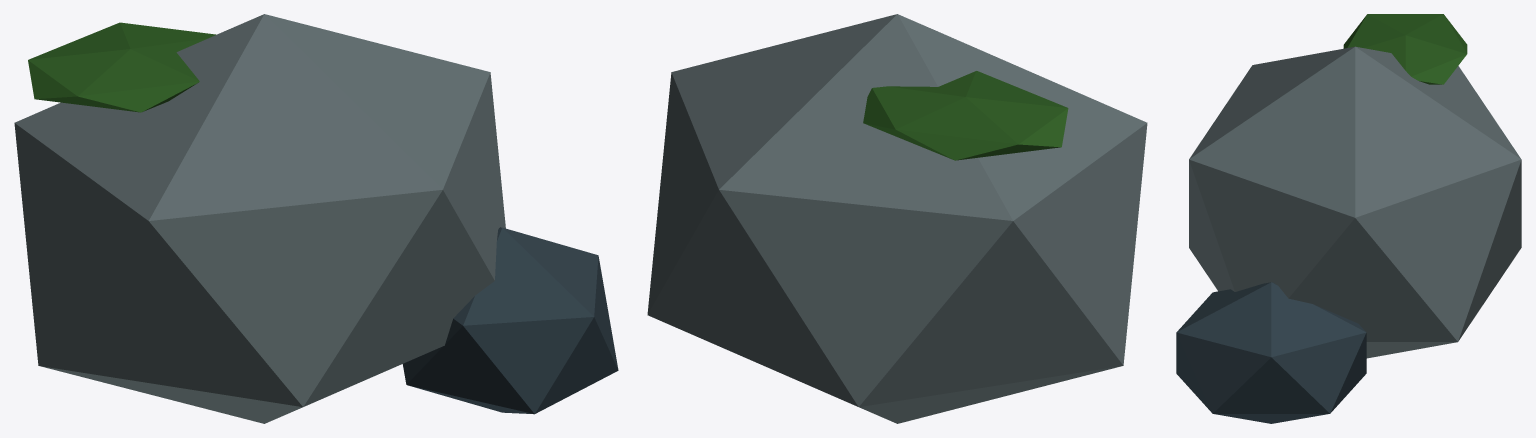
The model's file is Rock0.fbx.
The picture shows the model from 3 angles, left to right: view 1: azimuth 30°, elevation 25°; view 2: azimuth 150°, elevation 25°; view 3: azimuth 270°, elevation 25°; orthographic projection. The views are drawn at different scales.
Visible parts, largest first — view 1: Rock0_Mesh; view 2: Rock0_Mesh; view 3: Rock0_Mesh.
Part boxes in pixels (<box>): Rock0_Mesh: <box>14,14,618,423</box>; Rock0_Mesh: <box>647,14,1147,423</box>; Rock0_Mesh: <box>1176,14,1521,423</box>.
Bounding box in the file's own units: 0.7998 × 0.62 × 0.6179.
